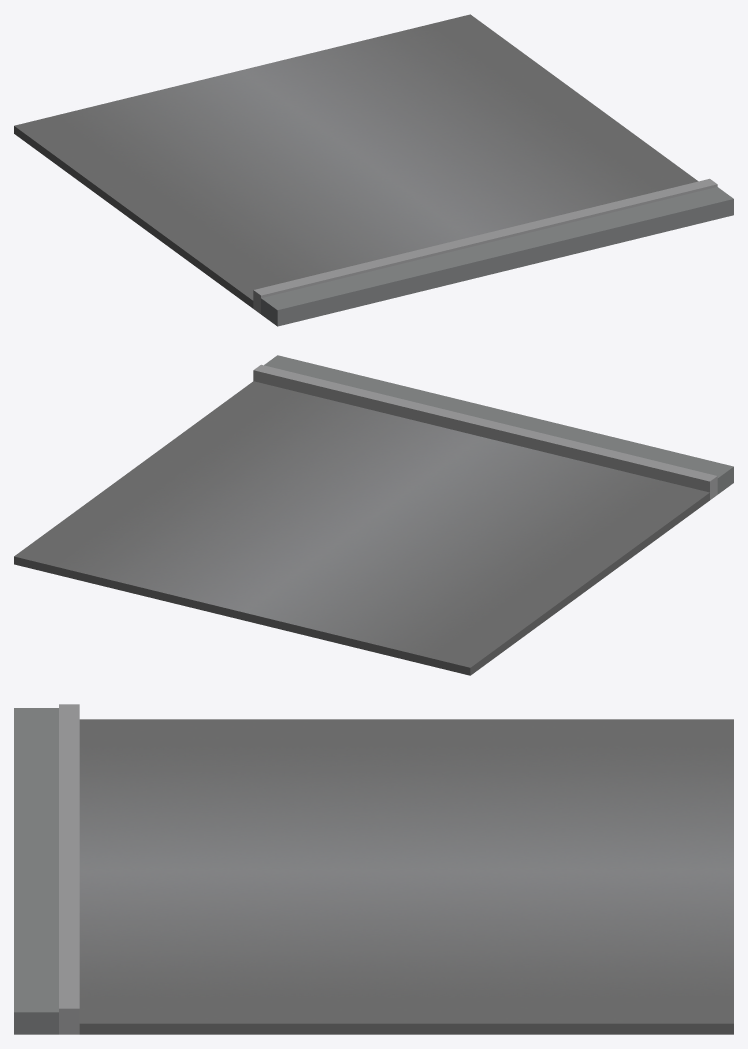
File: Road9.fbx
3 renders of one model, top to bottom at view 1: azimuth 30°, elevation 25°; view 2: azimuth 150°, elevation 25°; view 3: azimuth 270°, elevation 25°, orthographic. The views are drawn at different scales.
Parts seen in each view (by area): view 1: Road9; view 2: Road9; view 3: Road9.
Boxes of the visible parts, <box> form: Road9: <box>14,14,733,326</box>; Road9: <box>14,355,733,675</box>; Road9: <box>14,704,733,1034</box>.
Bounding box in the file's own units: 12 × 0.4753 × 12.
